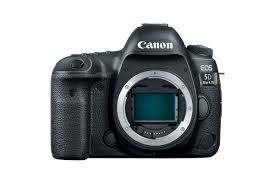camera: (52, 24, 219, 158)
